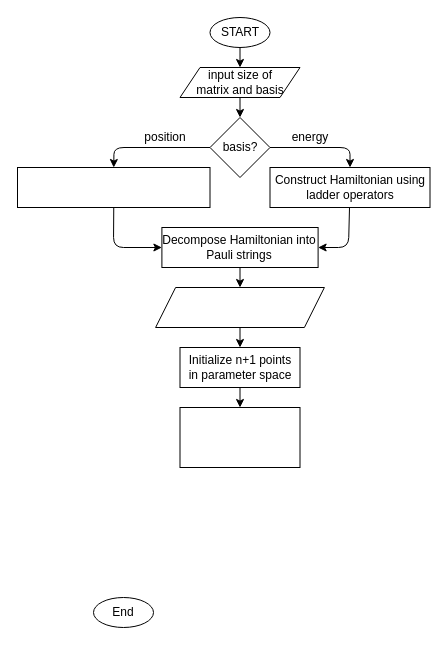
This 448x645 diagram has some shape labels left out. The shapes that lost their labels are listed below. From the top down, each one's centre as x and y in pixels, then its label:
At point (113, 187): "Construct Hamiltonian using position and momentum operators".
At point (239, 307): "input Pauli decomposition of Hamiltonian and ansatz".
At point (239, 437): "Measure expectation value of decomp H on parametrized ansatz".
